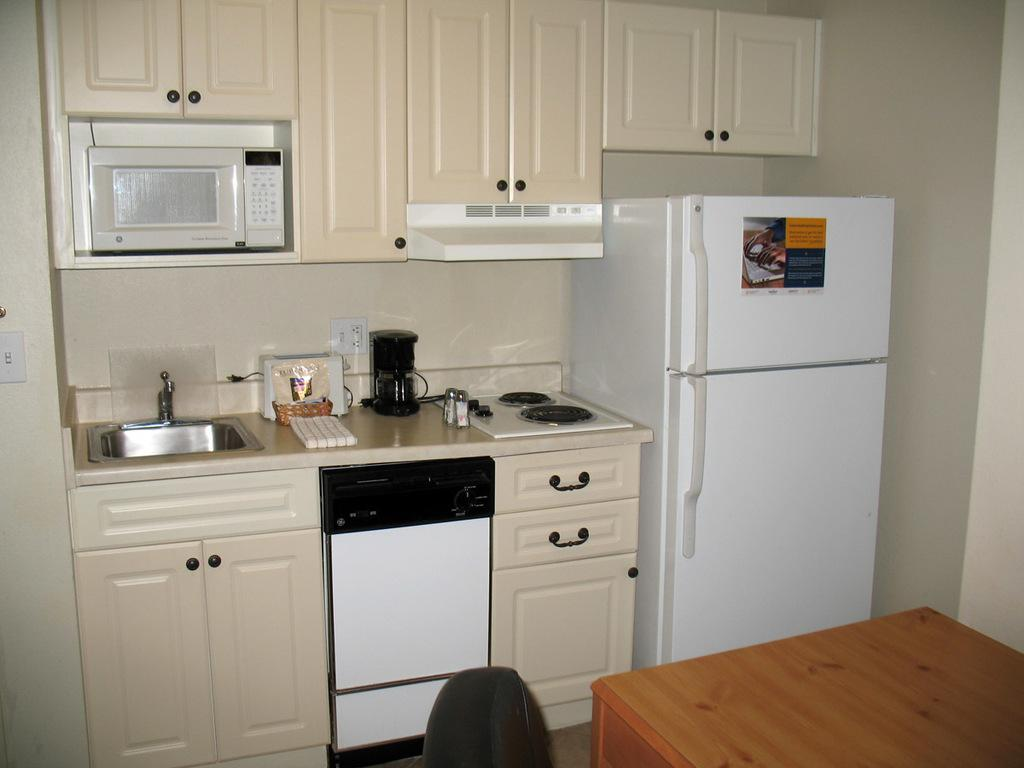cabinet_door: (84, 559, 214, 752), (306, 12, 406, 258), (202, 546, 328, 741), (410, 16, 508, 196), (513, 16, 605, 196), (502, 572, 632, 682), (604, 25, 714, 146), (60, 2, 178, 111), (182, 9, 300, 118), (718, 31, 816, 155), (506, 461, 640, 498), (504, 520, 634, 556)
handle: (680, 389, 706, 554), (687, 207, 711, 365), (557, 467, 593, 502), (552, 530, 586, 552), (183, 554, 203, 578), (488, 176, 508, 197), (512, 176, 530, 196), (390, 232, 408, 252), (187, 86, 204, 104), (169, 91, 183, 112), (627, 562, 639, 584), (719, 123, 731, 143), (210, 552, 222, 572), (703, 123, 713, 143)
